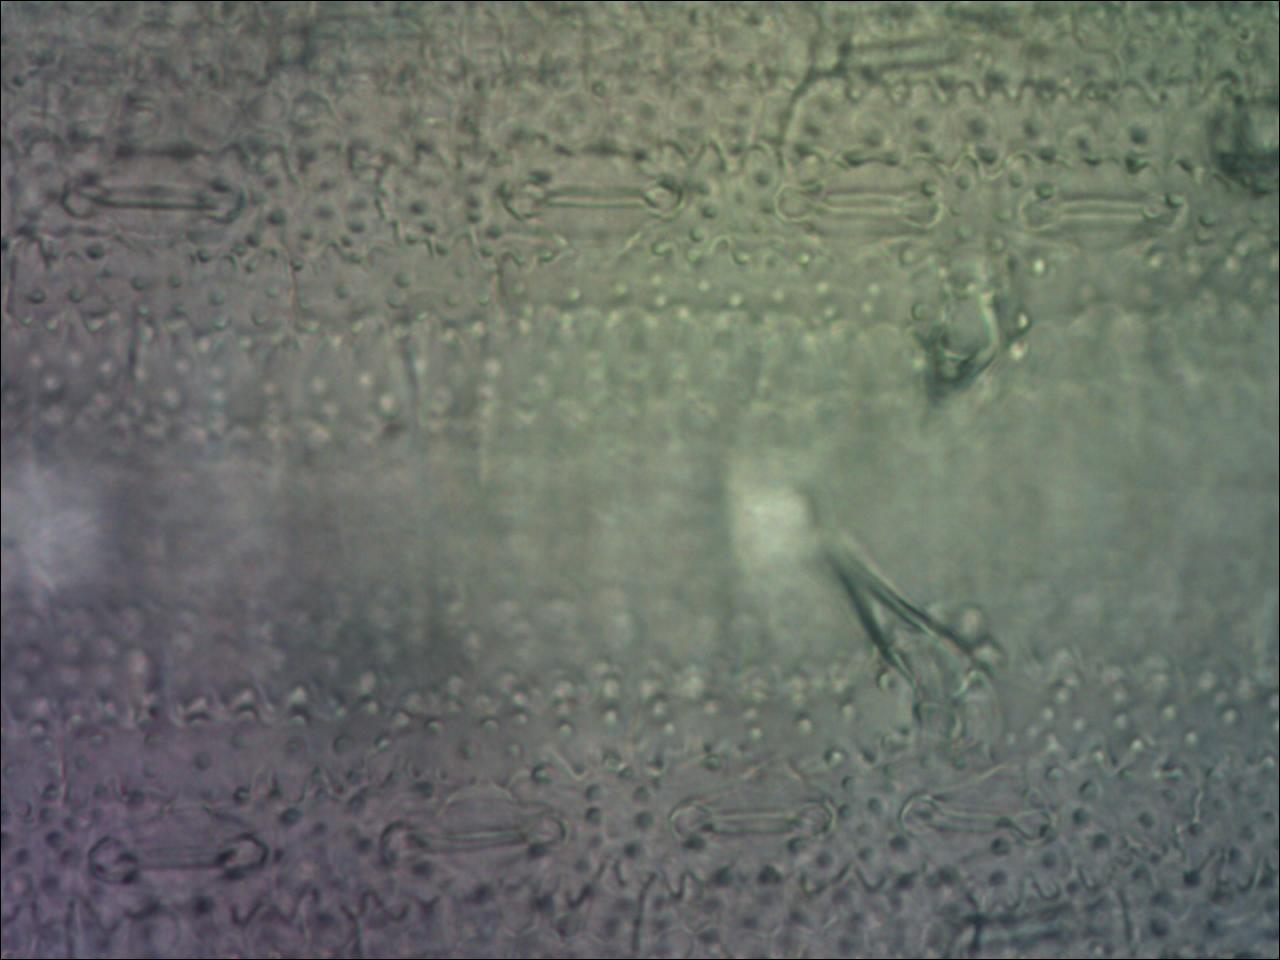stoma: (504, 146, 686, 261), (90, 803, 270, 916), (381, 785, 566, 893), (58, 155, 248, 250), (672, 765, 837, 873), (1014, 164, 1187, 265), (901, 767, 1062, 871), (776, 160, 939, 260)
